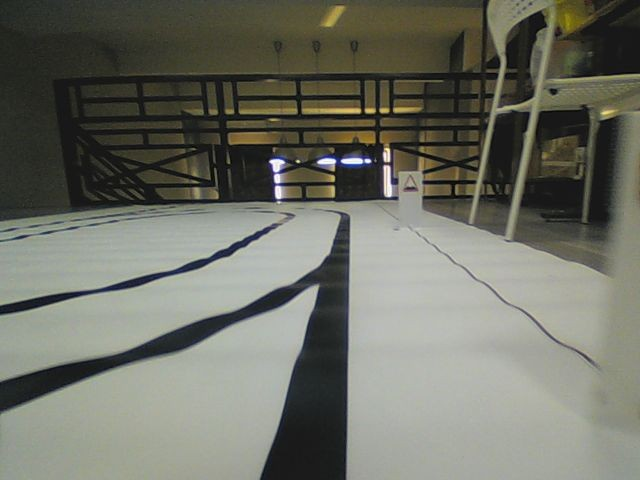Nerov: (402, 173, 419, 194)
